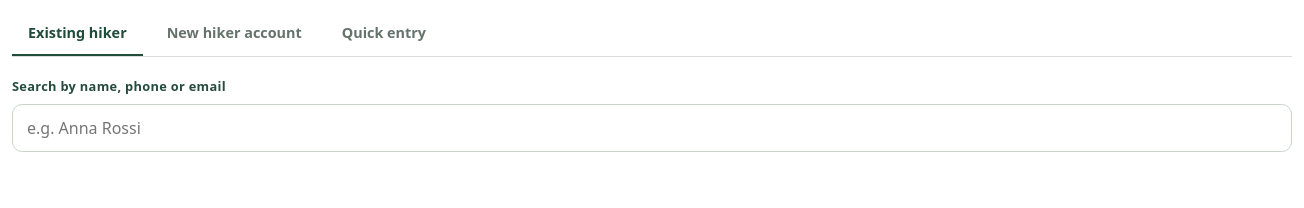
Test: shows a message when no hiker matches the search
Type "Nobody" into the field labelled "Search by name, phone or email". click: (652, 128)
box: [12,104,1292,152]
Wait 300 ms
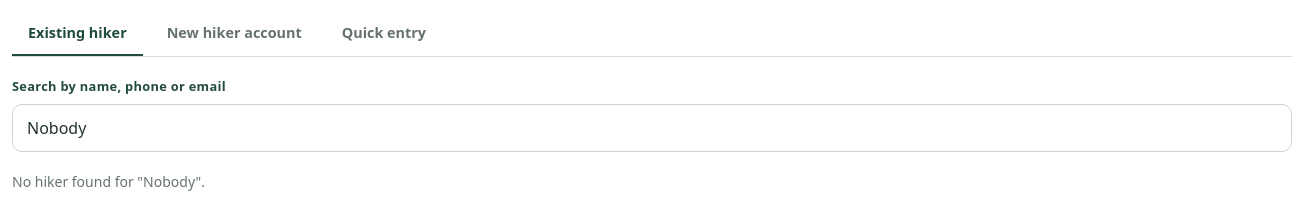
Expected: the text "No hiker found for \"Nobody\"." is shown, [12,172,205,191]
